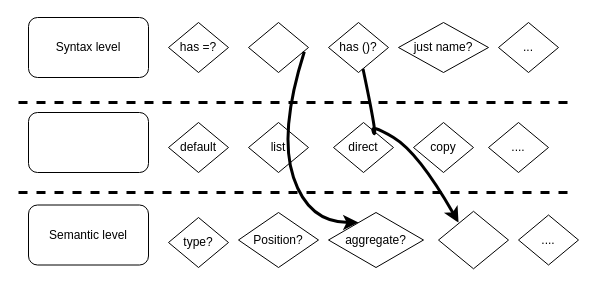
The diagram is 596 pixels wide and 287 high, and some of its shapes have lost their labels. The shapes that lost their labels are listed below. From the top down, each one's box as (x1, y1, x2, y2) in pixels, then its label:
(248, 22, 308, 72): has {}?
(28, 112, 148, 172): Six initialization
(438, 210, 508, 269): explicit?
